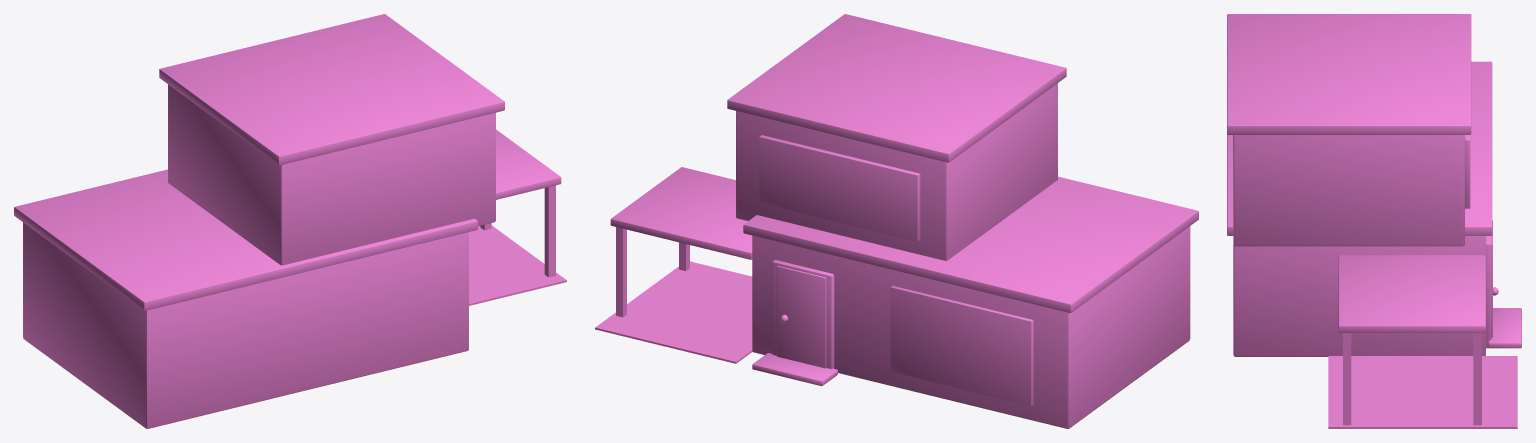
Rendered from House_E.fbx.
The picture shows the model from 3 angles, left to right: view 1: azimuth 30°, elevation 25°; view 2: azimuth 150°, elevation 25°; view 3: azimuth 270°, elevation 25°; orthographic projection. The views are drawn at different scales.
Parts seen in each view (by area): view 1: Paint, Body; view 2: Body, Paint; view 3: Body, Paint.
Part boxes in pixels (bbox=[...]): Paint: bbox=[23, 84, 495, 428]; Body: bbox=[14, 14, 566, 310]; Body: bbox=[595, 14, 1198, 405]; Paint: bbox=[736, 83, 1190, 428]; Body: bbox=[1227, 14, 1521, 428]; Paint: bbox=[1233, 135, 1485, 356].
Size of the model in its own units: 26.3 by 13.15 by 14.
1 material, 1 textured.
